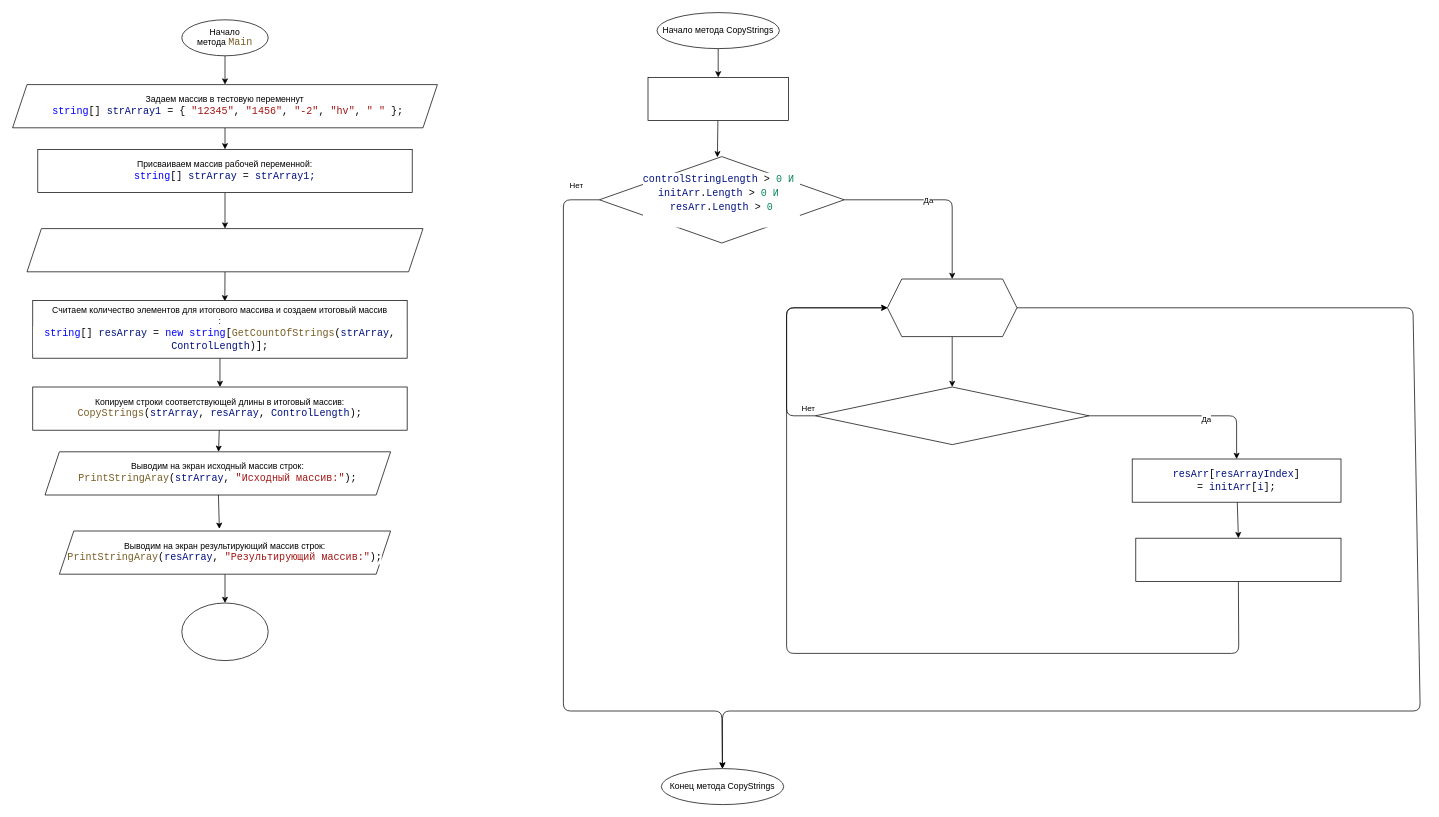
Some shapes in this 1439 by 817 pixel diagram are drawn without their labels. The box of each missing label's shape, as (x1, y1, x2, y2) in pixels:
initArr [ i ]. Length <= controlStringLength: (815, 386, 1089, 445)
int i = 0 ; i < initArr . Length ; i ++: (887, 278, 1017, 337)
resArrayIndex ++; resArrayIndex ++;: (1135, 537, 1341, 581)
Задаем контрольную длину выбираемых строк: int ControlLength = 3;: (26, 228, 423, 272)
Инициализация индекса результирующего массива: int resArrayIndex = 0: (647, 77, 788, 121)
Конец метода Main: (181, 602, 268, 661)
